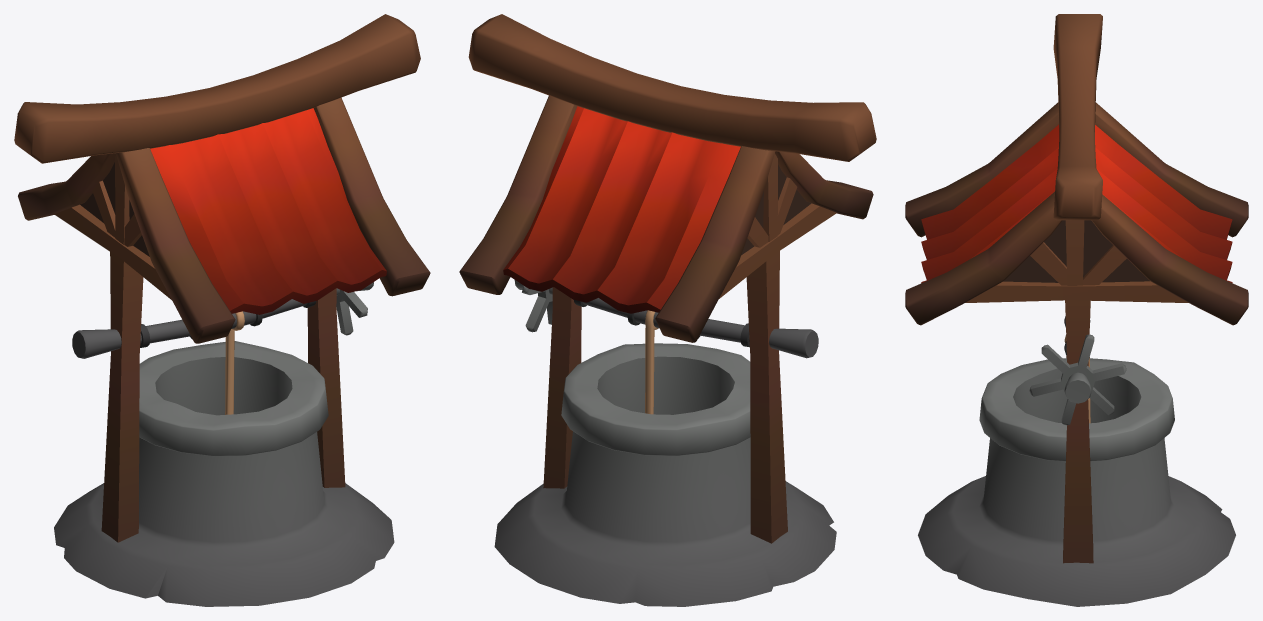
Rendered from Well_1.fbx.
The picture shows the model from 3 angles, left to right: view 1: azimuth 30°, elevation 25°; view 2: azimuth 150°, elevation 25°; view 3: azimuth 270°, elevation 25°; orthographic projection. The views are drawn at different scales.
Visible parts, largest first — view 1: Well_1; view 2: Well_1; view 3: Well_1.
Part boxes in pixels (x1,y1,x2,y2): Well_1: (14,14,430,606); Well_1: (459,14,876,606); Well_1: (905,14,1248,606).
Size of the model in its own units: 205 by 238 by 168.
